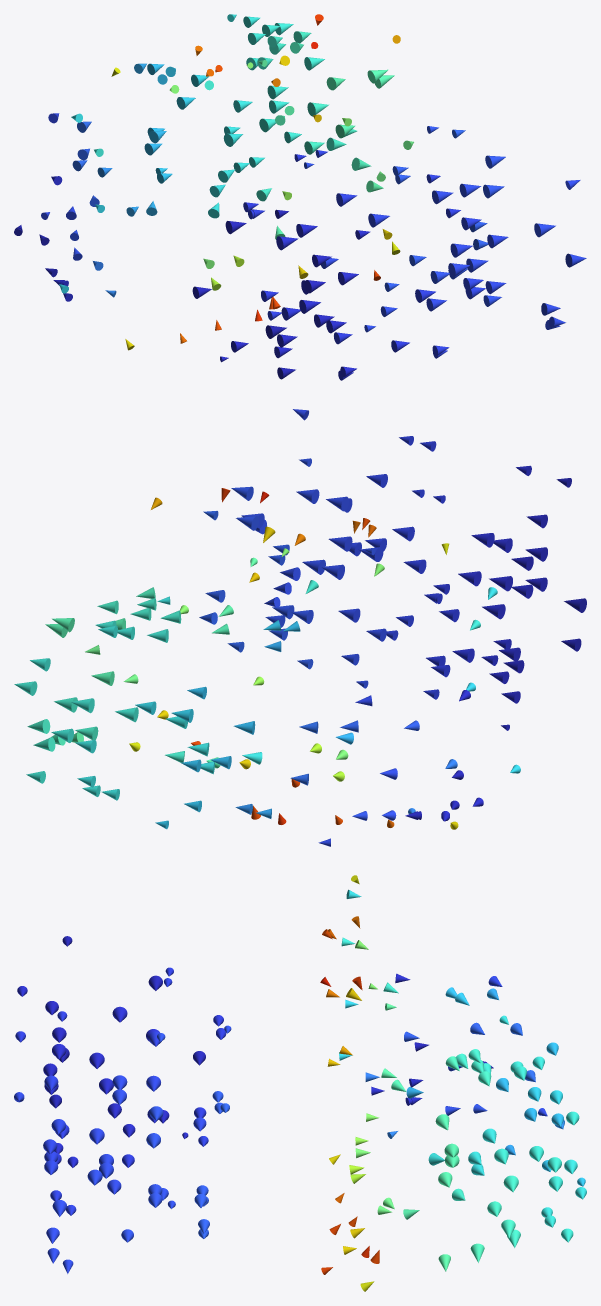
The model's file is LineasCorrienteN2-H2O_mh2-5.58_V-0.8.glb.
3 views of the same model, one above another, from view 1: azimuth 30°, elevation 25°; view 2: azimuth 150°, elevation 25°; view 3: azimuth 270°, elevation 25° (orthographic). The views are drawn at different scales.
Size of the model in its own units: 0.000984 by 0.000711 by 0.0012.
2 materials, 2 textured.
